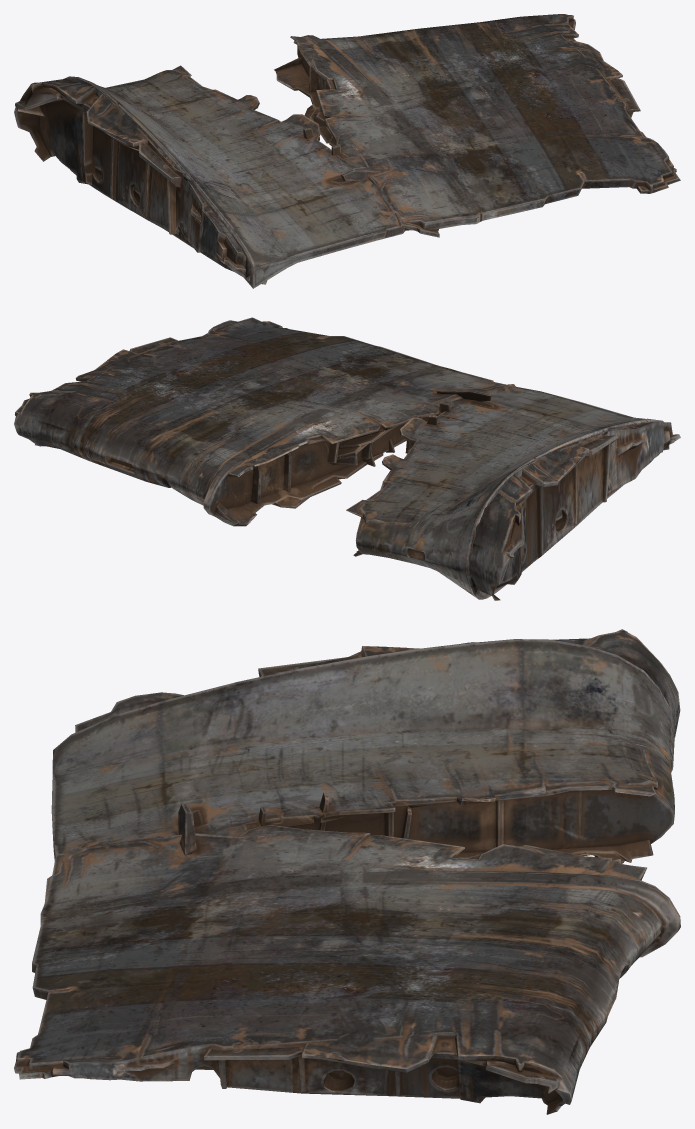
The model's file is plane_wreckage_engine_wing.dae.
3 views of the same model, one above another, from view 1: azimuth 30°, elevation 25°; view 2: azimuth 150°, elevation 25°; view 3: azimuth 270°, elevation 25° (orthographic). The views are drawn at different scales.
Parts seen in each view (by area): view 1: plane_wreckage_wing; view 2: plane_wreckage_wing; view 3: plane_wreckage_wing.
Boxes of the visible parts, left/top/right/bottom form: plane_wreckage_wing: left=14, top=14, right=680, bottom=288; plane_wreckage_wing: left=14, top=317, right=680, bottom=600; plane_wreckage_wing: left=14, top=629, right=680, bottom=1114.
Size of the model in its own units: 796 by 154 by 568.
